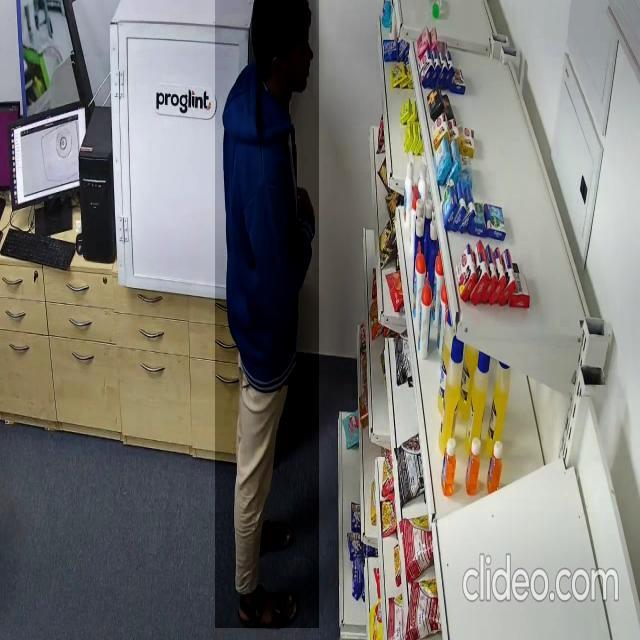Shoplifting: (215, 0, 319, 628)
